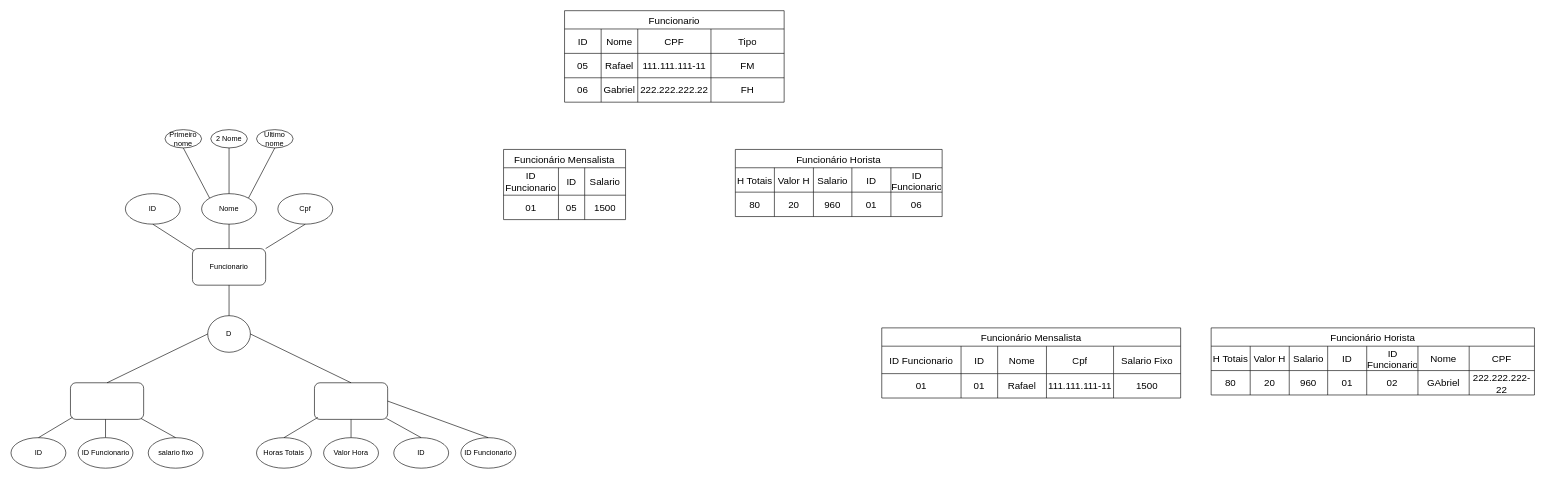
Some shapes in this 1545 by 479 pixel diagram are drawn without their labels. The centre of each missing label's shape, as x and y in pixels:
"Funcionario_Horista" belongs at pixel 351 400.
"Funcionario_Mensalista" belongs at pixel 107 400.
